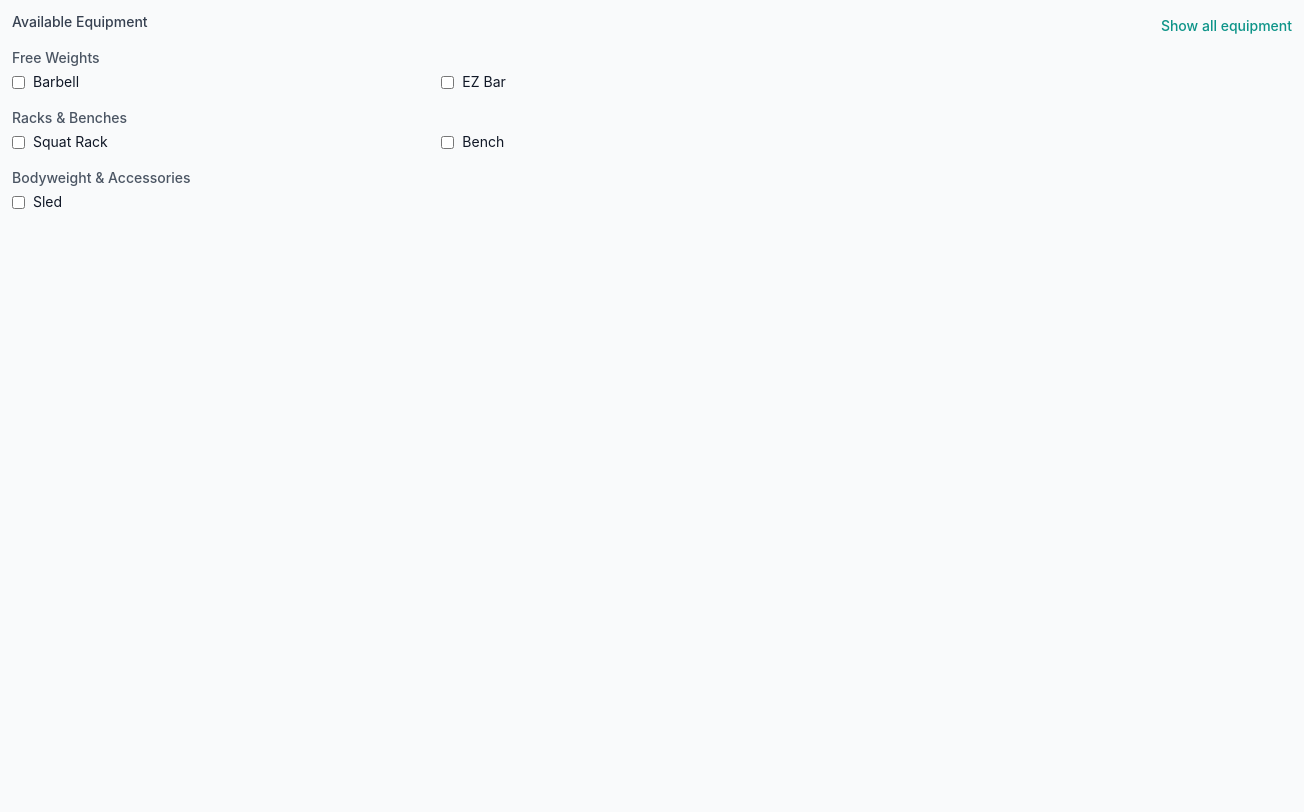
Test case: EquipmentPicker › should reveal the full catalog when "Show all equipment" is toggled
The image size is (1304, 812).
Click the button "Show all equipment".
click(1226, 26)  # box x1=1161 y1=16 x2=1292 y2=36
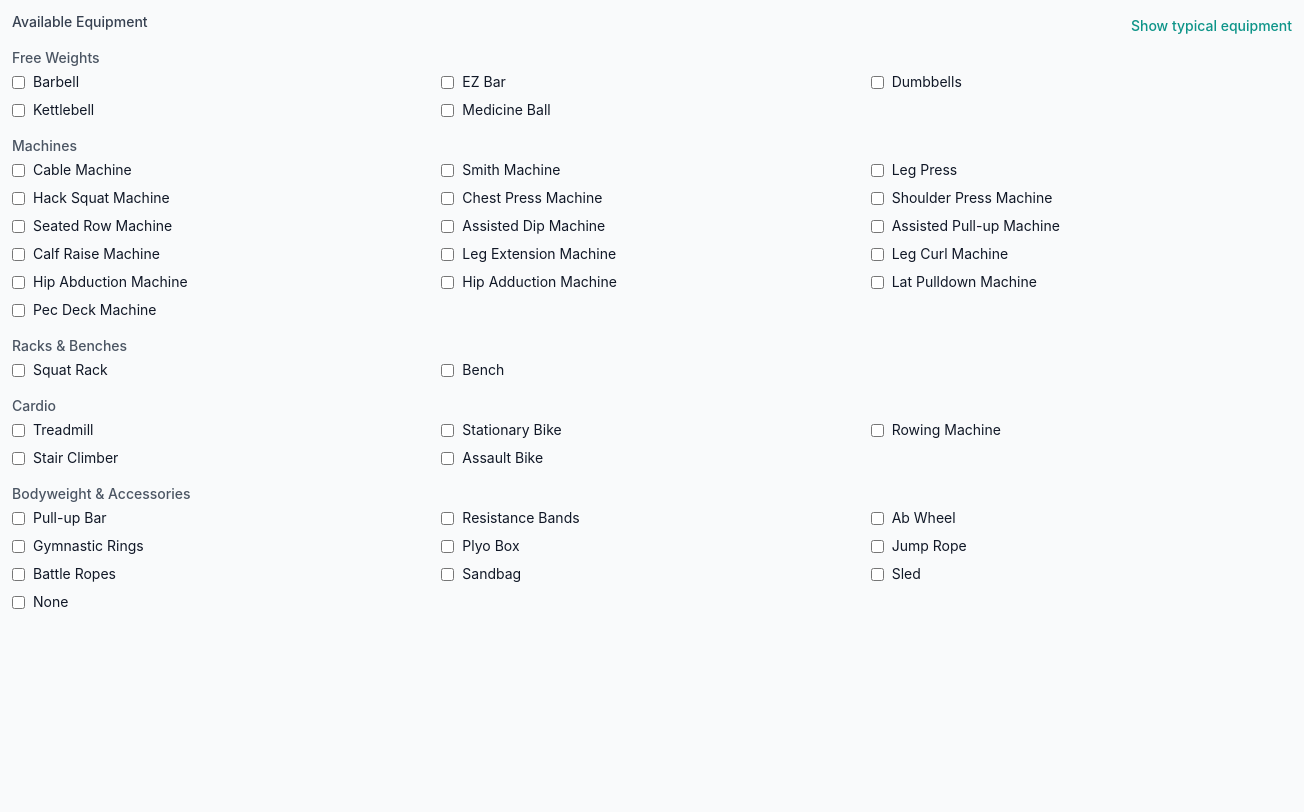
Now the checkbox labelled "Leg Press" is shown, box x1=871 y1=164 x2=884 y2=176
Now the checkbox labelled "Kettlebell" is shown, box x1=12 y1=104 x2=25 y2=116
